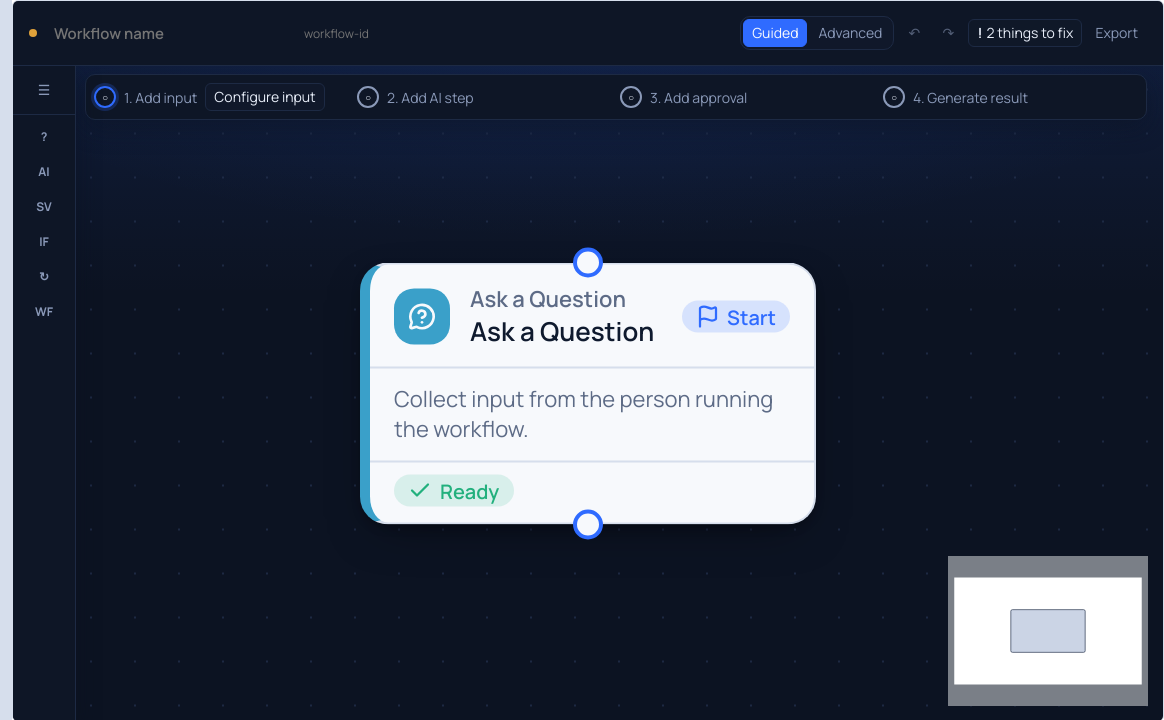
it: Export success confirmation › can be dismissed
Step 1. Click the button with test id "workflow-builder-export" → (1117,33), box [1086,19,1147,47]
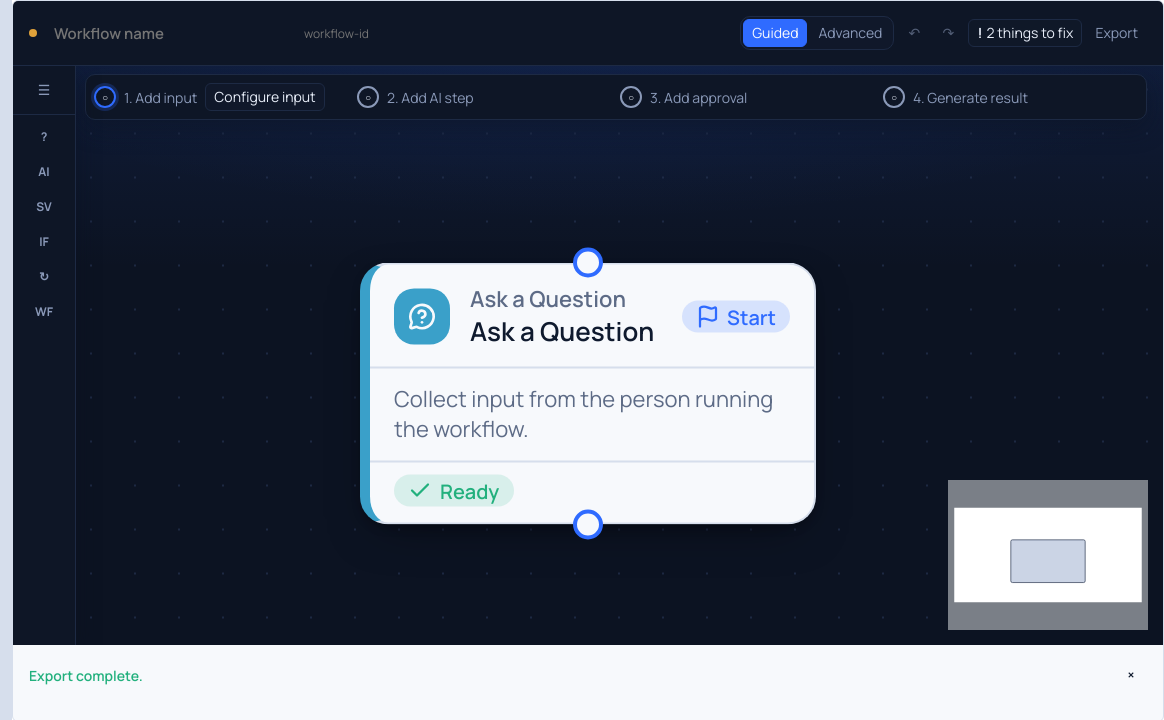
Now the message "Export complete. ×" is shown, box [13,659,1163,707]
Step 2. Click the button named "Dismiss export confirmation" → (1131,675), box [1115,659,1147,691]
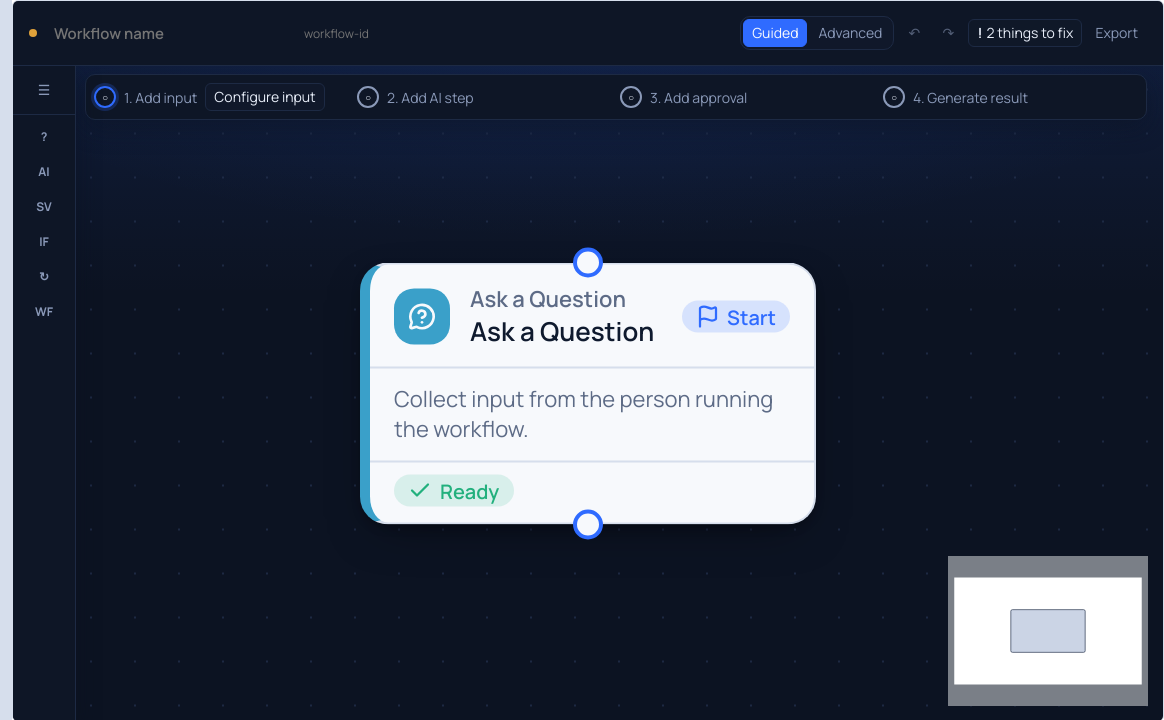
Now the message with test id "export-success" is gone
